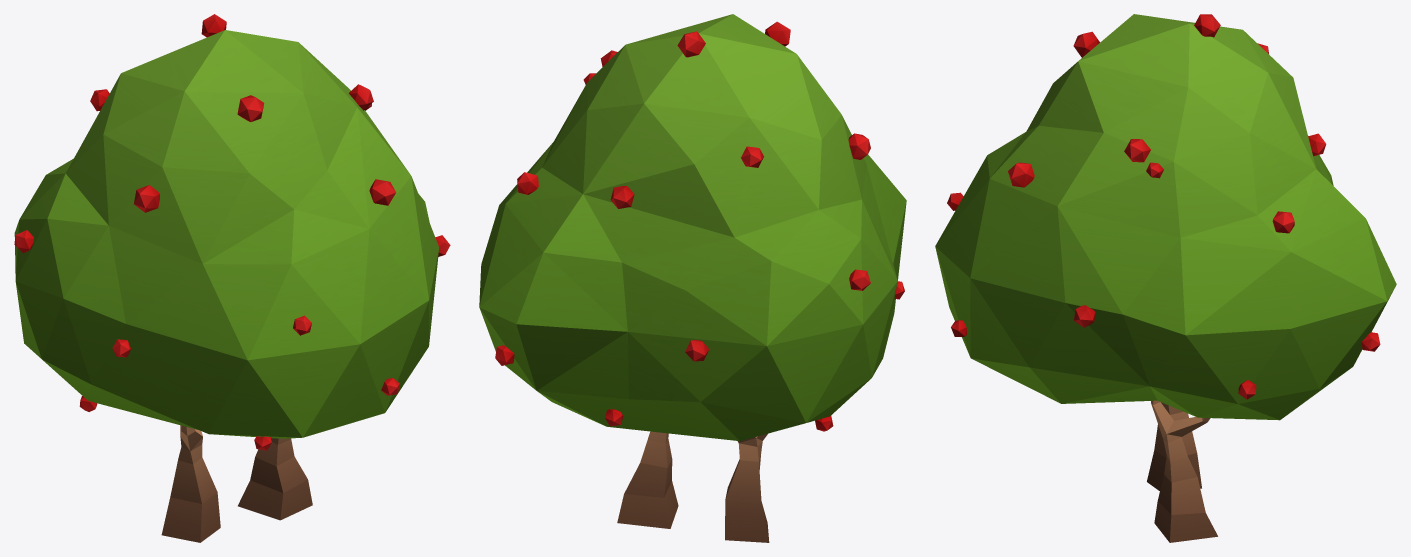
The model's file is Bush_07.fbx.
3 renders of one model, left to right at view 1: azimuth 30°, elevation 25°; view 2: azimuth 150°, elevation 25°; view 3: azimuth 270°, elevation 25°, orthographic. The views are drawn at different scales.
Visible parts, largest first — view 1: Bush_07; view 2: Bush_07; view 3: Bush_07.
Part boxes in pixels (x1,y1,x2,y2): Bush_07: (14,14,450,542); Bush_07: (479,14,906,542); Bush_07: (935,14,1396,542).
Bounding box in the file's own units: 144 × 176 × 151.
